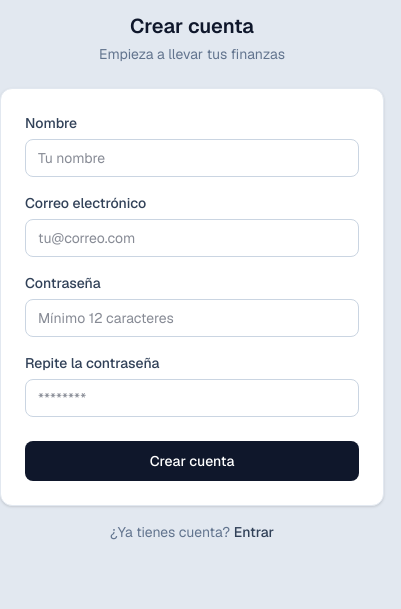
Test: RegisterPage › shows the API error when the email is already taken
This screenshot has width=401, height=609.
Type " Ana " into the field labelled "Nombre".
click(192, 158); type(" Ana ")  # box [25, 139, 359, 177]
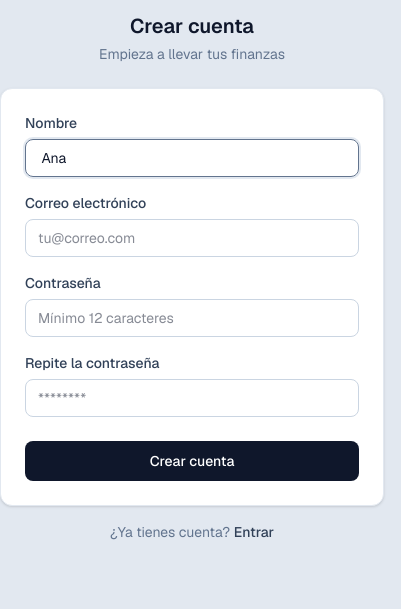
Type "ana@test.com" into the field labelled "Correo electrónico".
click(192, 238); type("ana@test.com")  # box [25, 219, 359, 257]
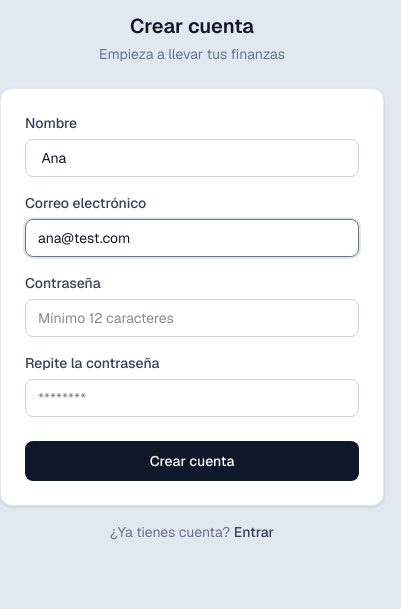
Type "una-clave-larga" into the password field labelled "Contraseña".
click(192, 318); type("una-clave-larga")  # box [25, 299, 359, 337]
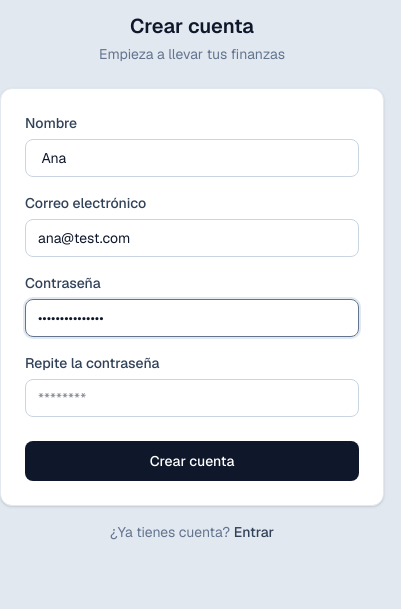
Type "una-clave-larga" into the password field labelled "Repite la contraseña".
click(192, 398); type("una-clave-larga")  # box [25, 379, 359, 417]
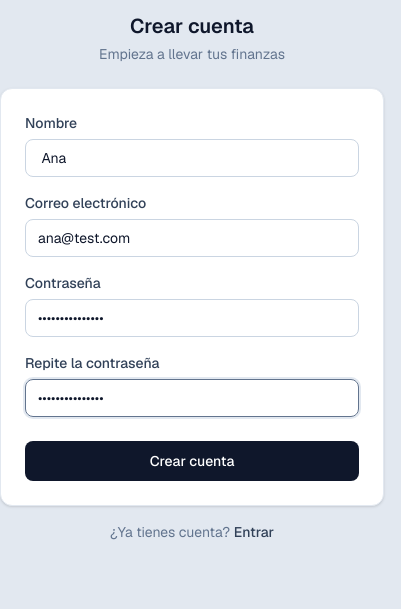
Click the button "Crear cuenta".
click(192, 461)  # box [25, 441, 359, 481]
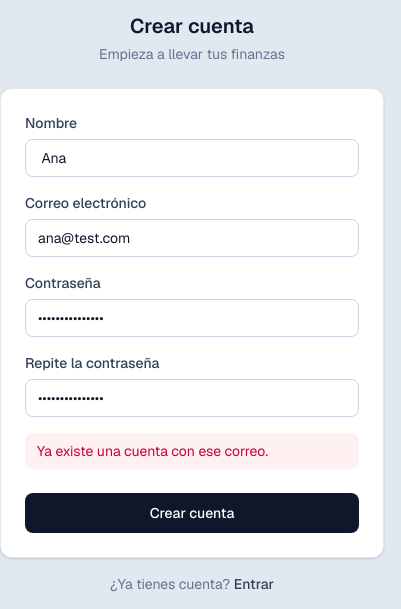
Expected: the message reads "Ya existe una cuenta con ese correo.", [37, 442, 268, 460]
